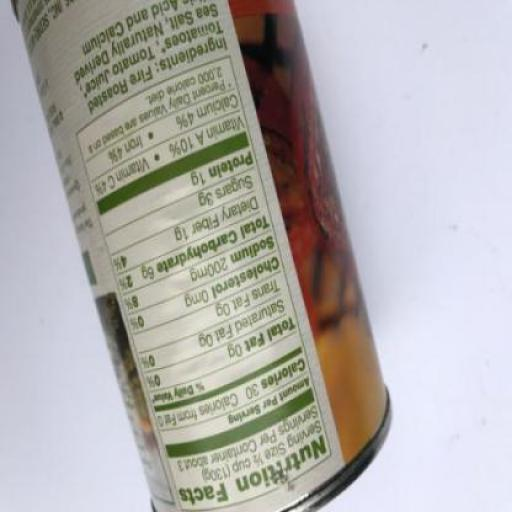metal: (11, 1, 394, 511)
